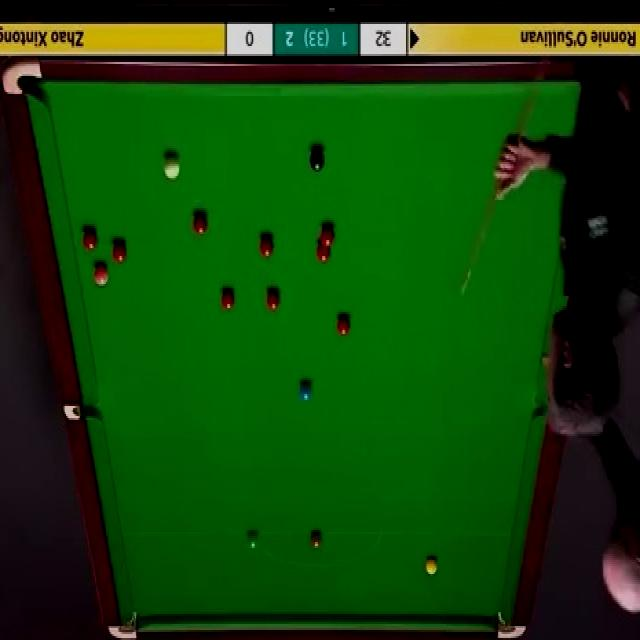pocket: (2, 61, 45, 97), (63, 400, 103, 422), (495, 611, 527, 638), (111, 609, 138, 640)
